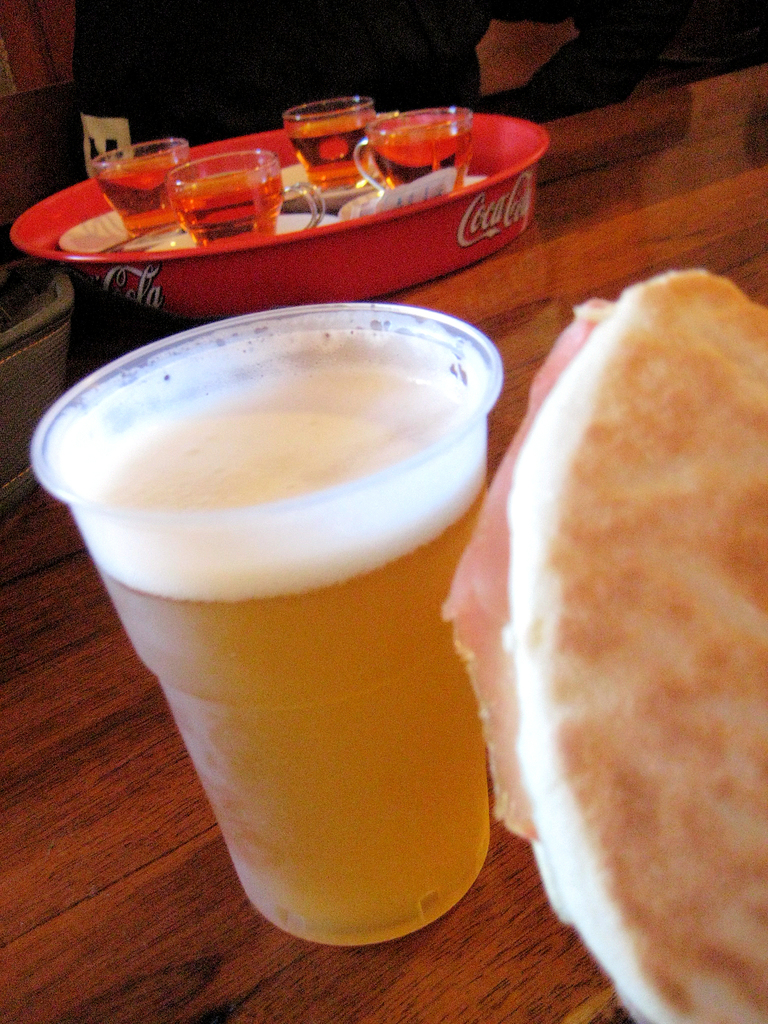Beer: (80, 342, 482, 952)
